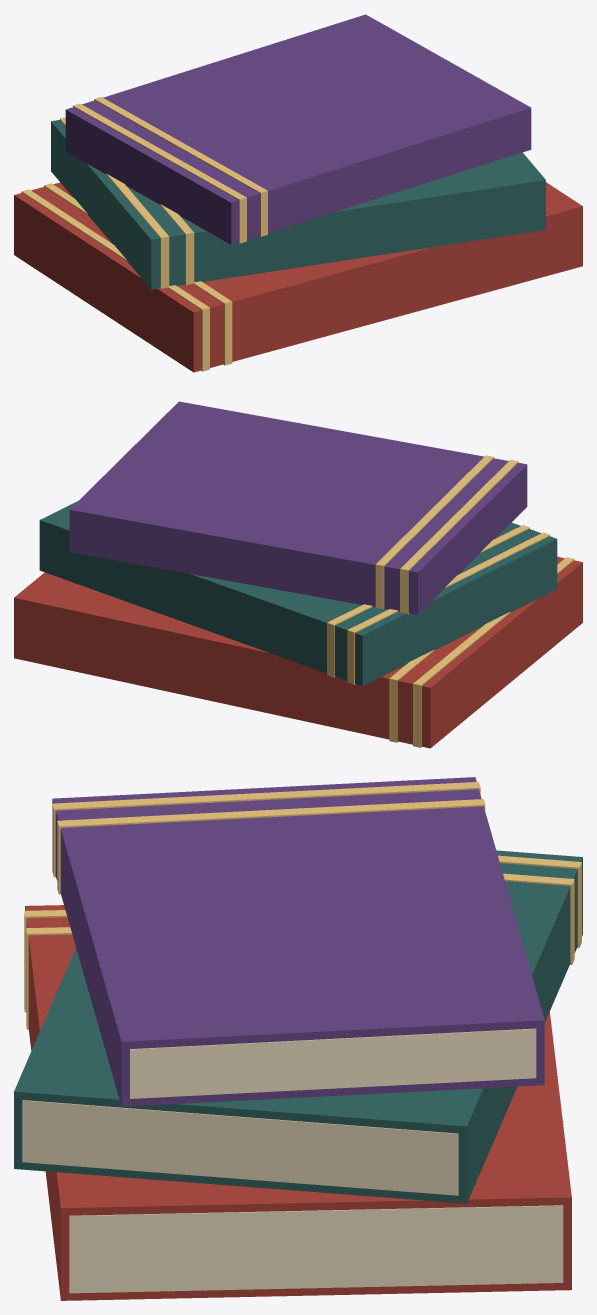
The model's file is books.glb.
3 views of the same model, one above another, from view 1: azimuth 30°, elevation 25°; view 2: azimuth 150°, elevation 25°; view 3: azimuth 270°, elevation 25° (orthographic). The views are drawn at different scales.
Visible parts, largest first — view 1: books; view 2: books; view 3: books.
Part boxes in pixels (x1,y1,x2,y2): books: [14, 14, 582, 372]; books: [14, 401, 582, 748]; books: [14, 777, 582, 1300].
Size of the model in its own units: 4.35 by 1.54 by 3.34.
